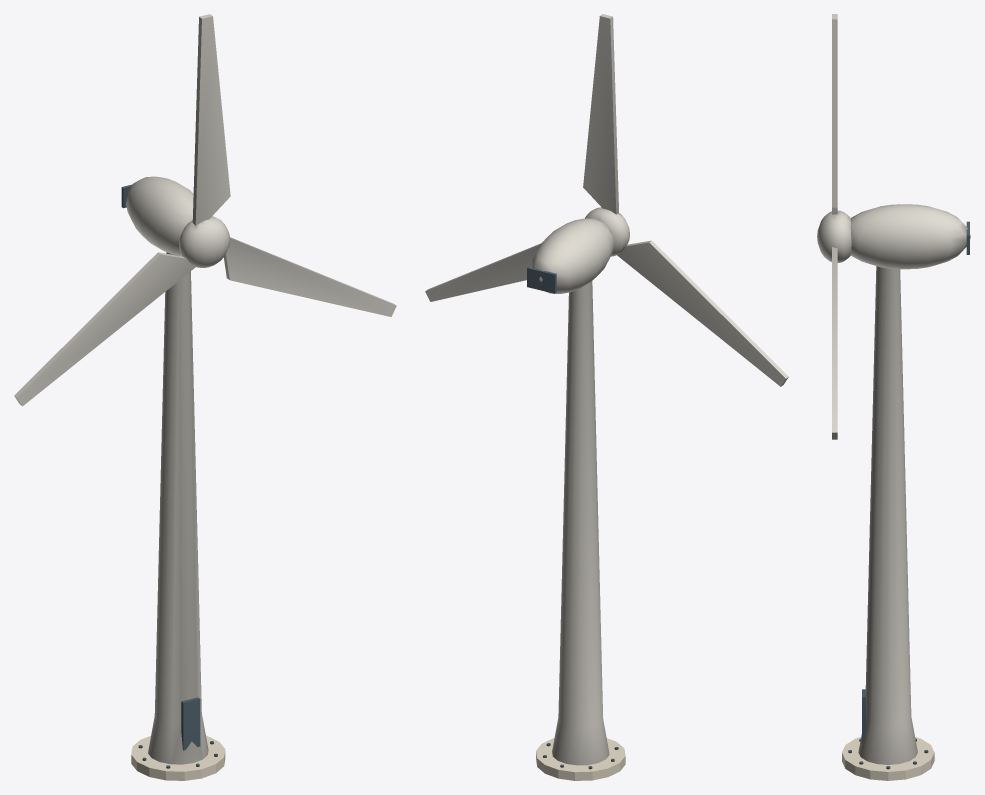
The model's file is turbine.glb.
3 views of the same model, side by side, from view 1: azimuth 30°, elevation 25°; view 2: azimuth 150°, elevation 25°; view 3: azimuth 270°, elevation 25° (orthographic). The views are drawn at different scales.
Parts seen in each view (by area): view 1: tapered turbine, turbine foundation, tower access door; view 2: tapered turbine, turbine foundation, tower access door; view 3: tapered turbine, turbine foundation, tower access door.
Boxes of the visible parts, x1,y1,x2,y2 form: tapered turbine: (14, 14, 396, 764); turbine foundation: (131, 735, 225, 780); tower access door: (121, 184, 217, 768); tapered turbine: (425, 14, 788, 765); turbine foundation: (536, 738, 625, 780); tower access door: (527, 267, 618, 769); tapered turbine: (817, 14, 970, 764); turbine foundation: (842, 737, 934, 780); tower access door: (848, 221, 969, 769).
Size of the model in its own units: 2.58 by 4.97 by 0.93.
